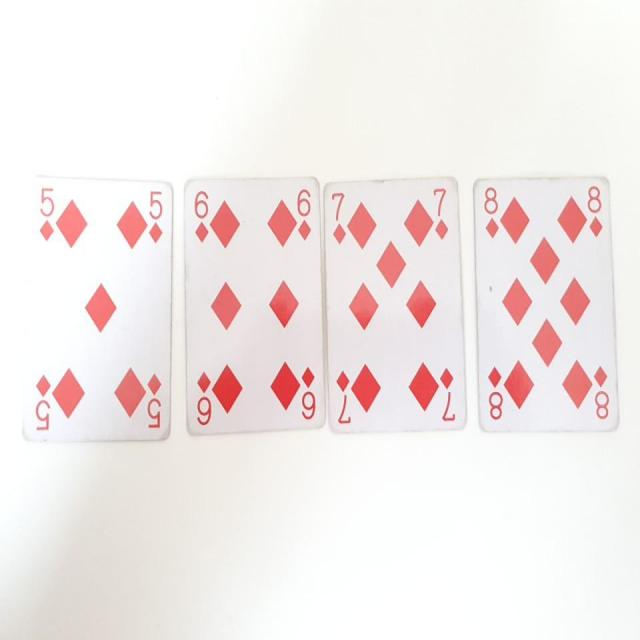5 Diamonds: (20, 169, 177, 446)
6 Diamonds: (181, 172, 324, 434)
7 Diamonds: (321, 174, 466, 435)
8 Diamonds: (471, 176, 622, 433)
